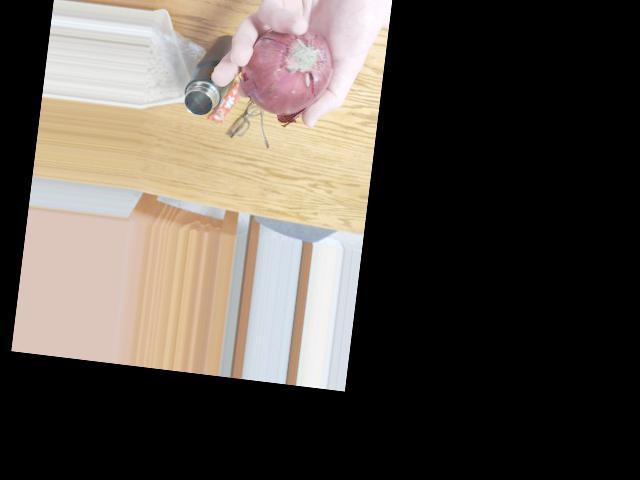onion: (239, 21, 338, 112)
